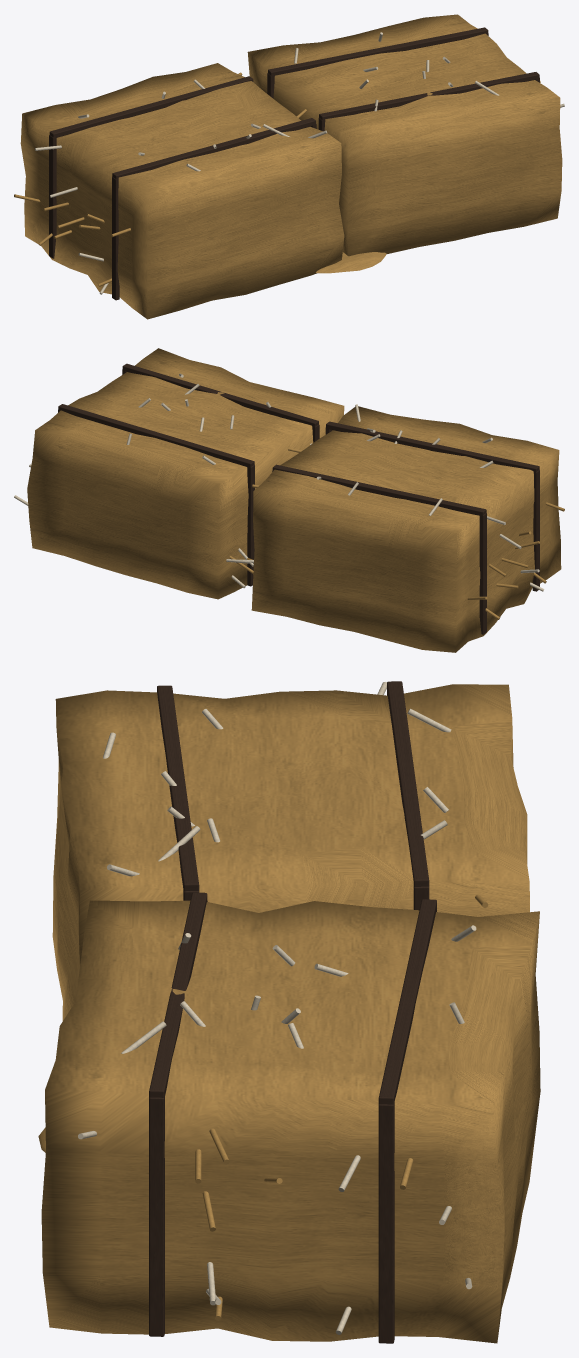
File: hay_bales.glb
3 views of the same model, one above another, from view 1: azimuth 30°, elevation 25°; view 2: azimuth 150°, elevation 25°; view 3: azimuth 270°, elevation 25° (orthographic). The views are drawn at different scales.
Parts seen in each view (by area): view 1: hay_bales; view 2: hay_bales; view 3: hay_bales.
Boxes of the visible parts, x1,y1,x2,y2 form: hay_bales: (14,14,564,319); hay_bales: (14,348,564,652); hay_bales: (38,681,540,1343).
Bounding box in the file's own units: 2.6 × 0.7 × 1.2.
Materials: 1 (1 with a texture image).
